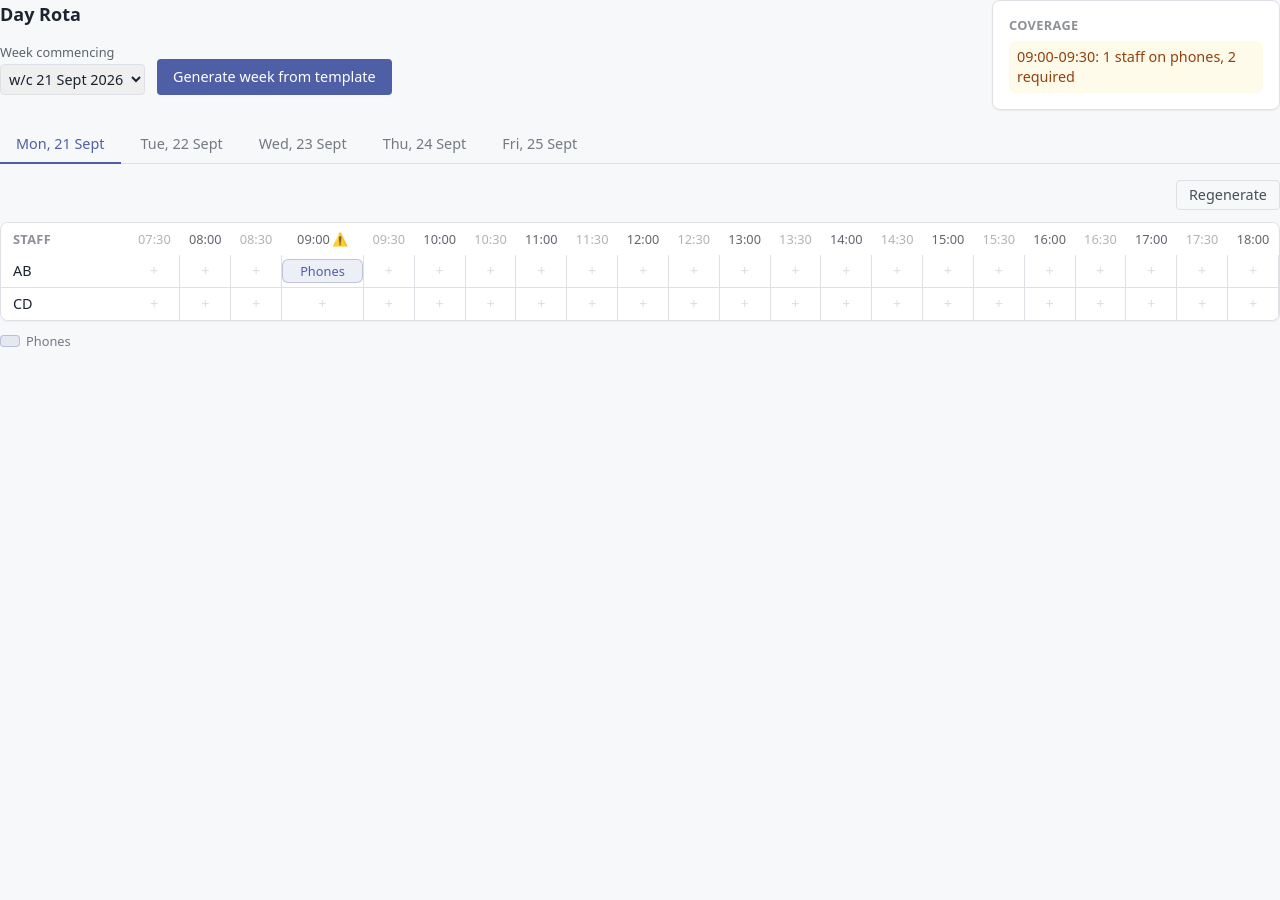
Test case: ReceptionDayPage › a shortfall warning clears once a staff member is added to the short hour
The width and height of the screenshot is (1280, 900).
expect the list item "09:00-09:30: 1 staff on phones, 2 required" is shown: met, box 1009,41 -> 1263,93
Click the button named "Add session for CD 09:00-09:30": (322, 304) 286,294 -> 359,314
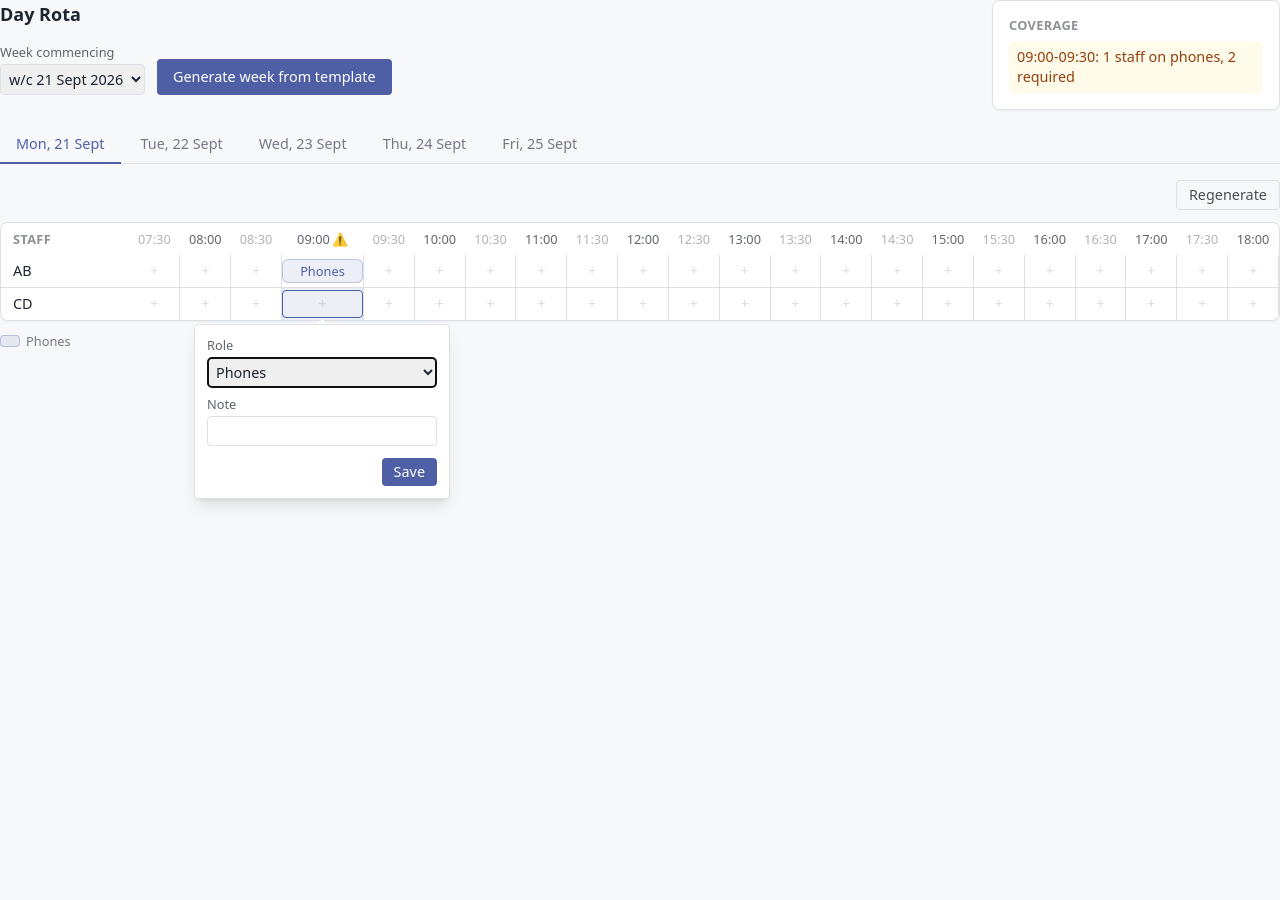
Click the button "Save": (409, 472) 382,458 -> 437,486
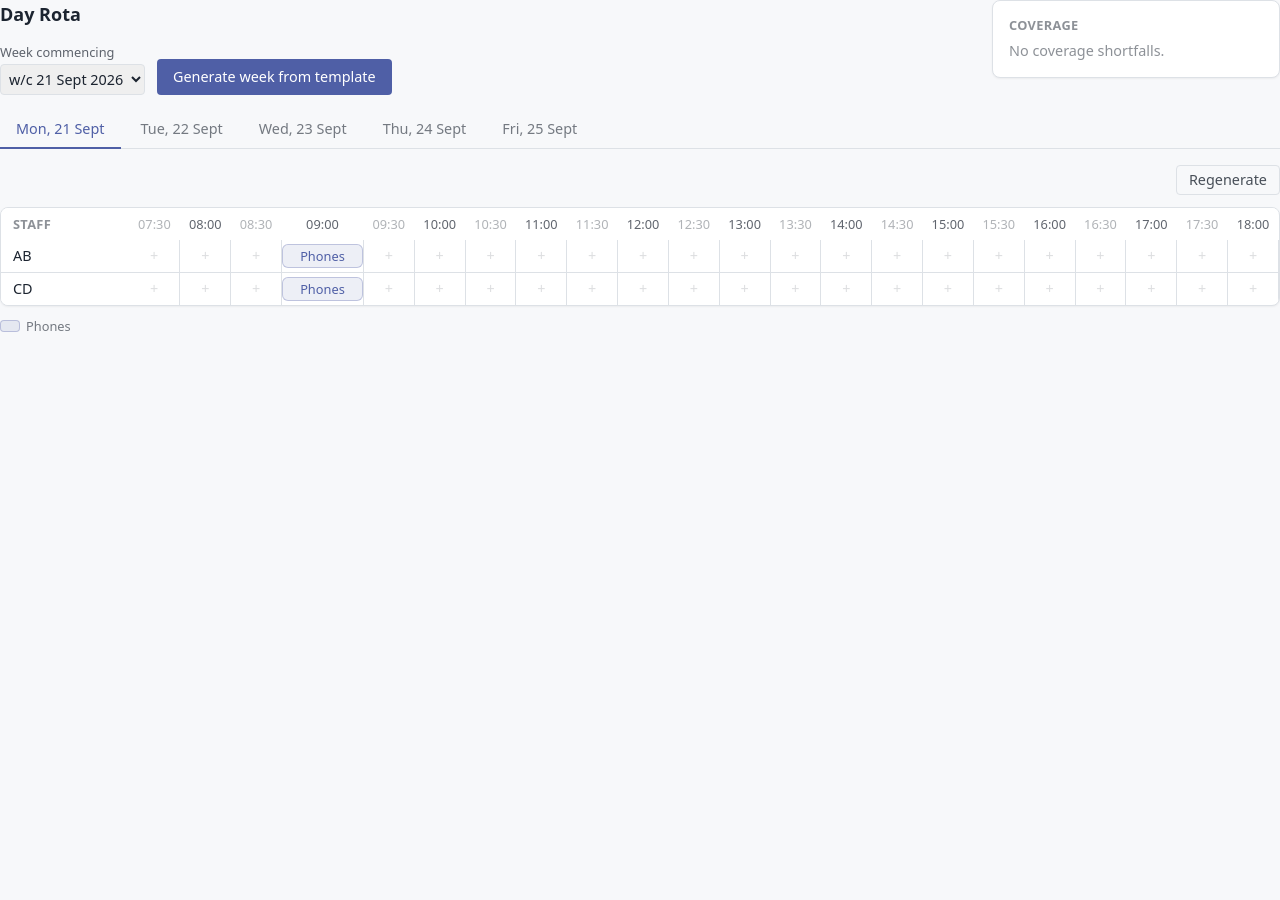
expect the list item "09:00-09:30: 1 staff on phones, 2 required" is gone: met
expect the text "No coverage shortfalls." is shown: met, box 1009,41 -> 1164,60
